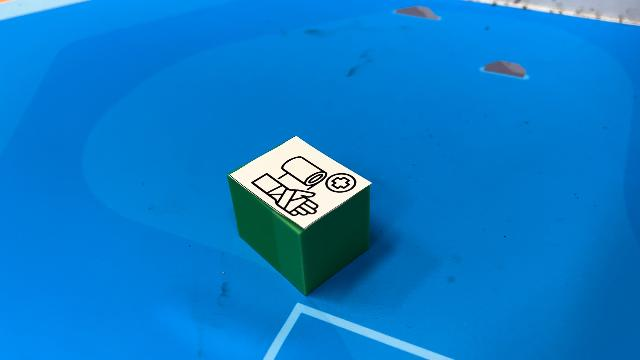bandage: (226, 134, 372, 296)
